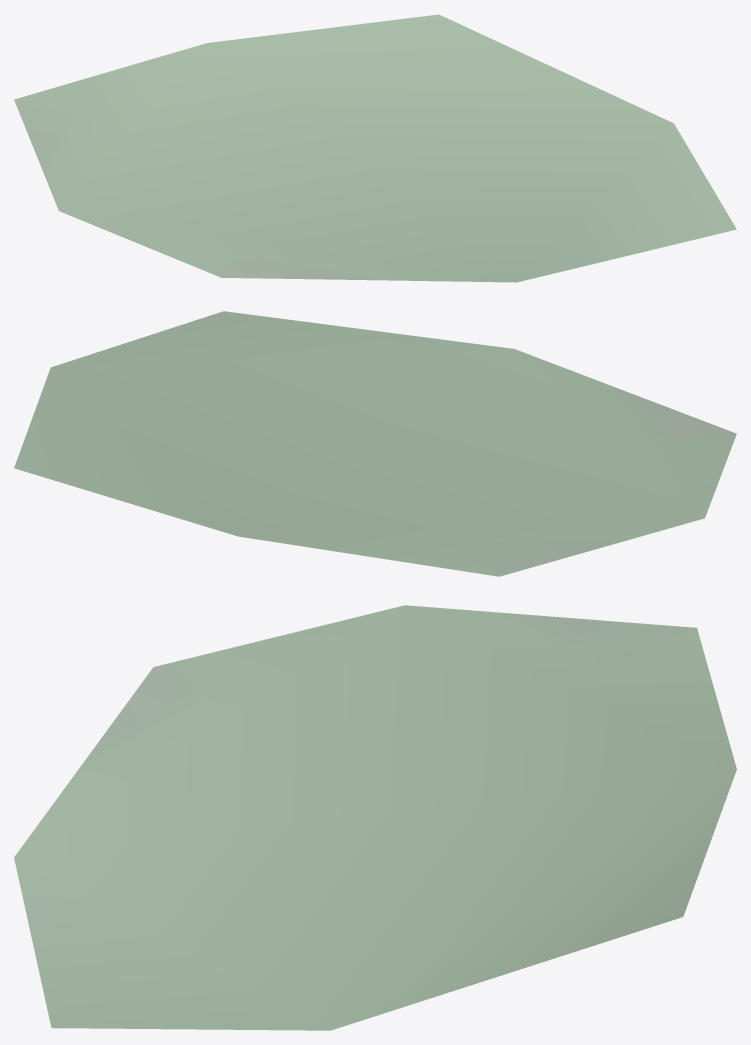
File: TROLLHOLE02_HOLECAP199.fbx
3 views of the same model, one above another, from view 1: azimuth 30°, elevation 25°; view 2: azimuth 150°, elevation 25°; view 3: azimuth 270°, elevation 25° (orthographic). The views are drawn at different scales.
Parts seen in each view (by area): view 1: TROLLHOLE02_HOLECAP199; view 2: TROLLHOLE02_HOLECAP199; view 3: TROLLHOLE02_HOLECAP199.
Part boxes in pixels (x1=…): TROLLHOLE02_HOLECAP199: x1=14, y1=14, x2=736, y2=282; TROLLHOLE02_HOLECAP199: x1=14, y1=311, x2=736, y2=576; TROLLHOLE02_HOLECAP199: x1=14, y1=605, x2=736, y2=1030.
Bounding box in the file's own units: 16194 × 1805 × 13047.
1 material, 1 textured.
